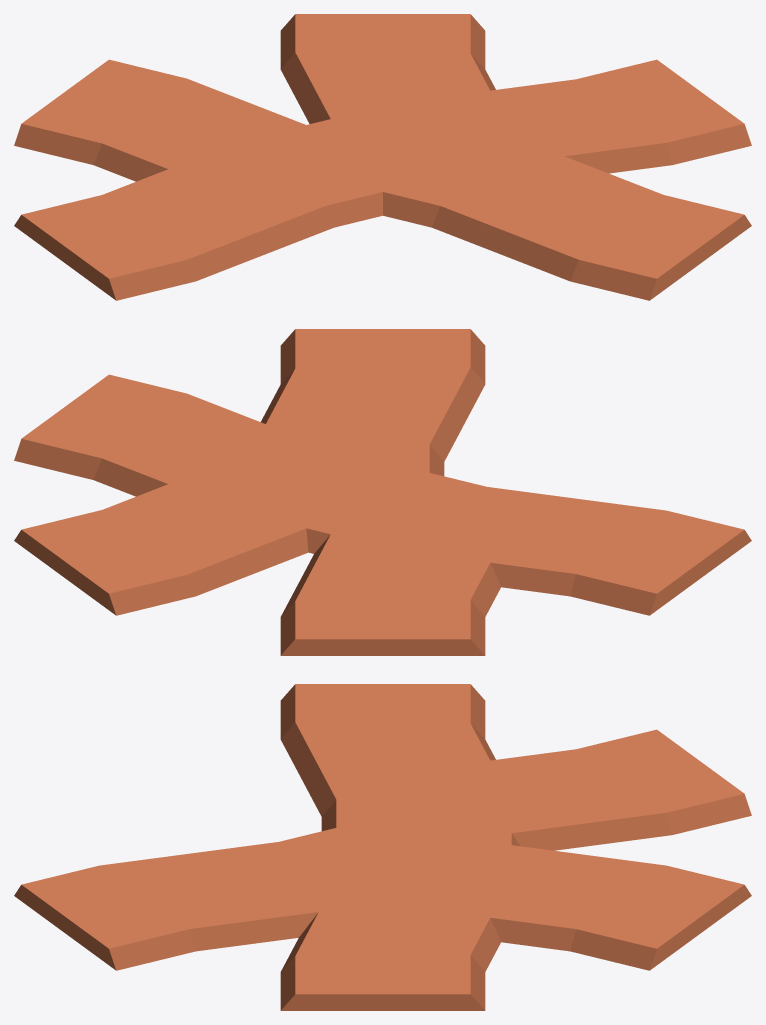
Rendered from path_intersectionG.fbx.
3 views of the same model, one above another, from view 1: azimuth 30°, elevation 25°; view 2: azimuth 150°, elevation 25°; view 3: azimuth 270°, elevation 25° (orthographic).
Visible parts, largest first — view 1: path_intersectionG; view 2: path_intersectionG; view 3: path_intersectionG.
Boxes of the visible parts, <box> form: path_intersectionG: <box>14,14,751,300</box>; path_intersectionG: <box>14,329,751,655</box>; path_intersectionG: <box>14,684,751,1010</box>.
Size of the model in its own units: 10 by 0.25 by 10.06.
